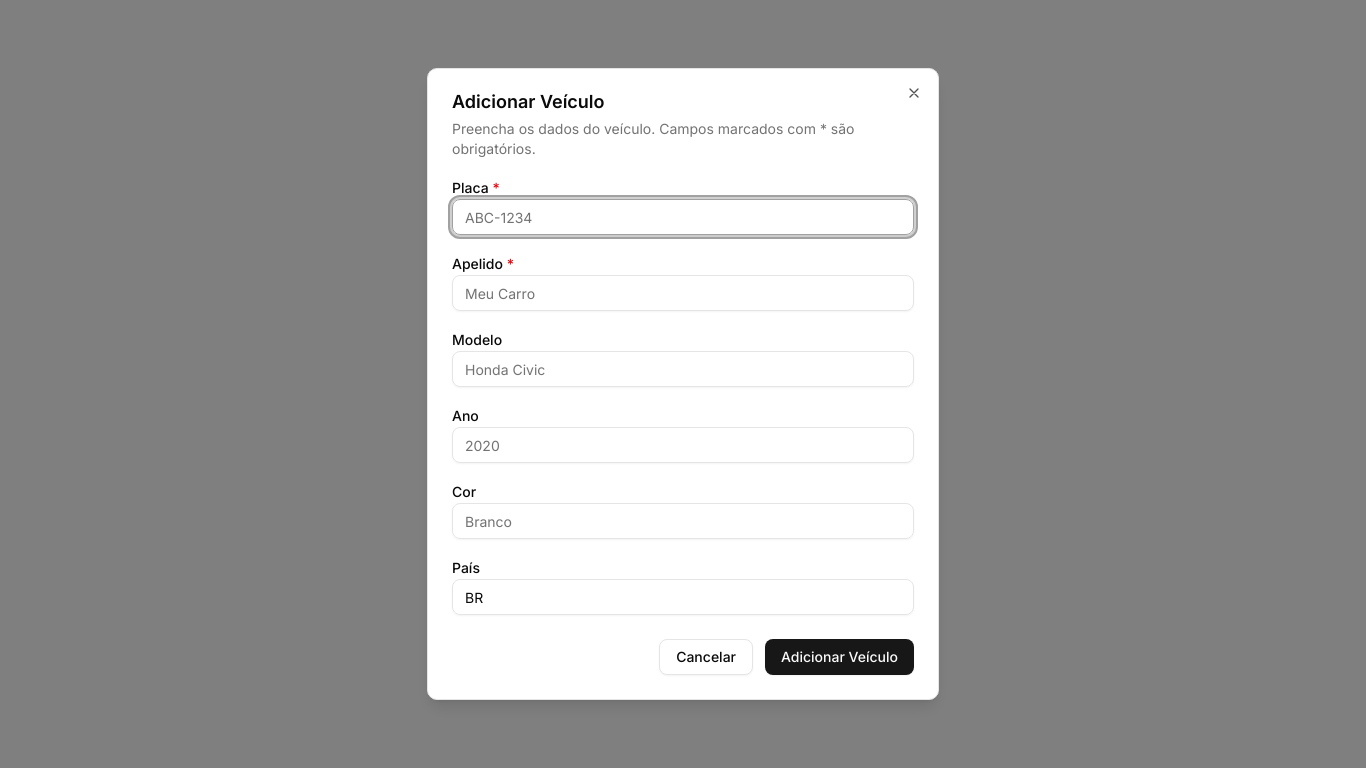
it: vehicleForm › validation › should show validation error when plate is empty
The image size is (1366, 768).
Step 1. Click the button "Adicionar Veículo" → (840, 657), box [765,639,914,675]
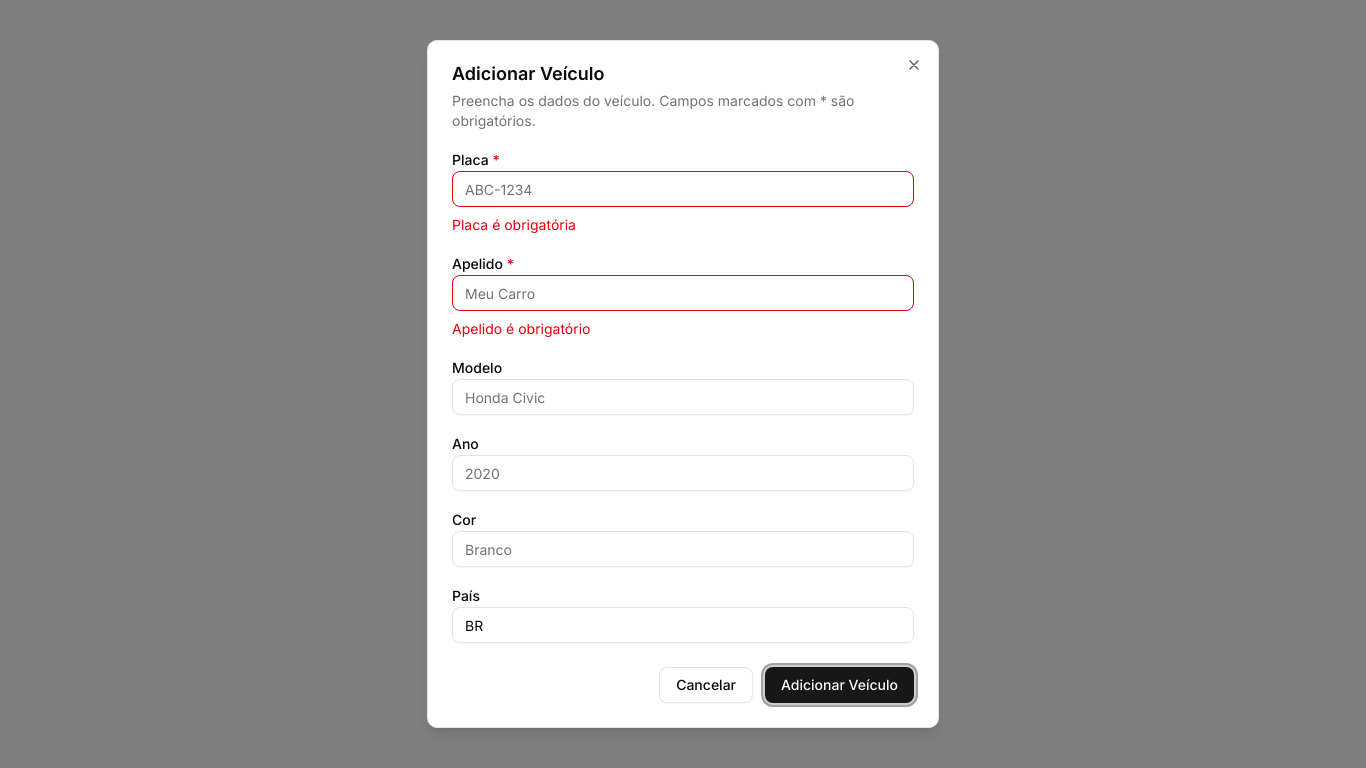
Check: the text "Placa é obrigatória" is shown, box [452,216,576,233]
